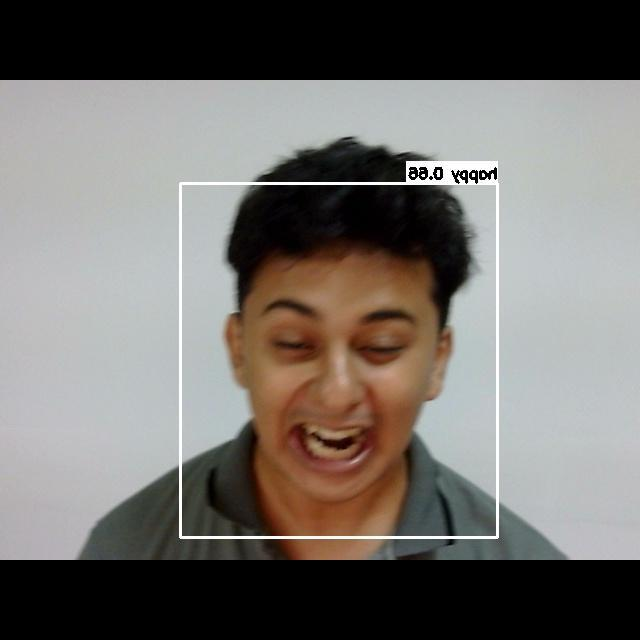Surprised: (226, 259, 440, 496)
